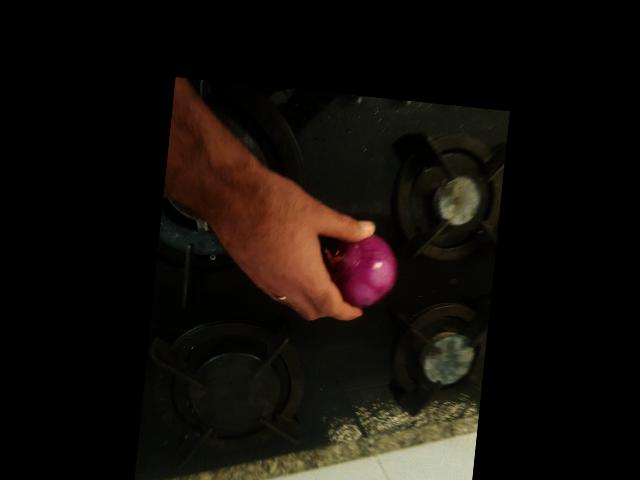onion: (320, 223, 402, 308)
